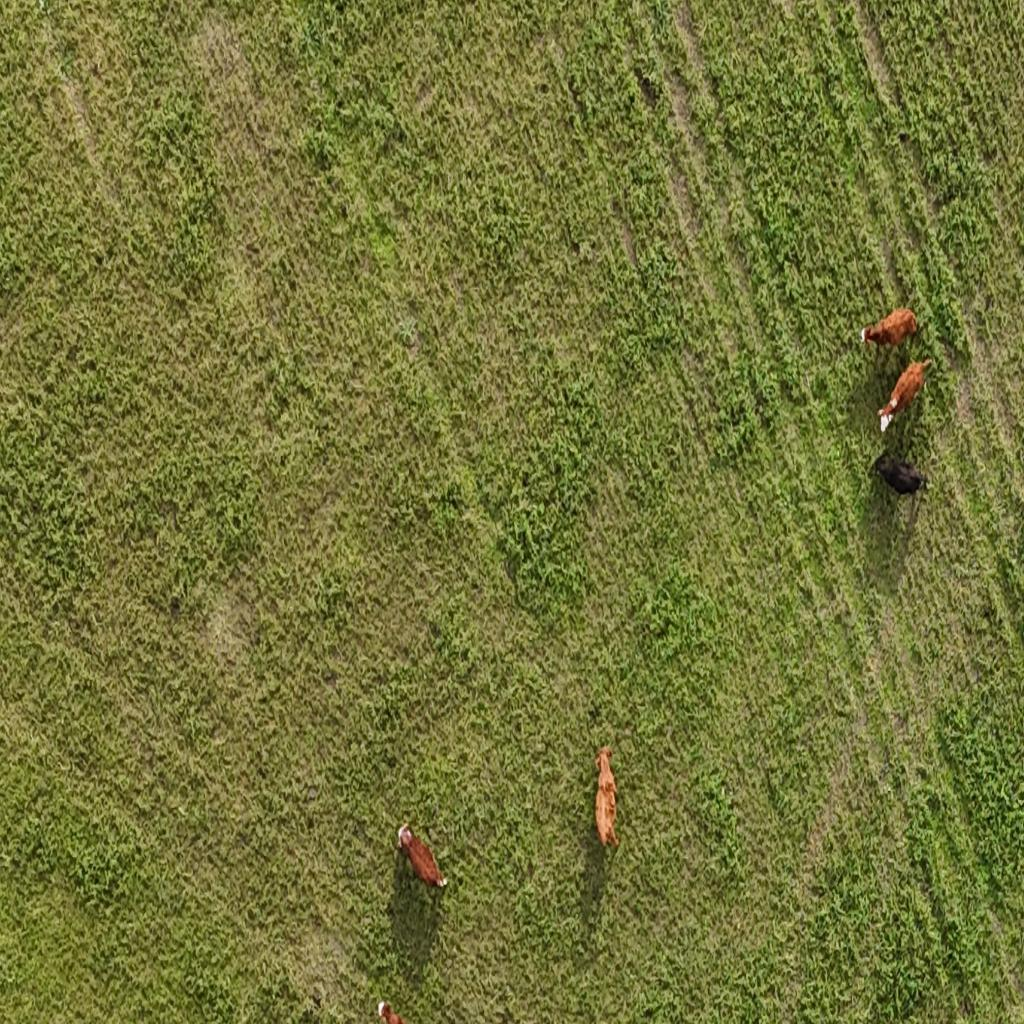cow: (869, 440, 932, 516), (877, 356, 932, 435), (396, 821, 448, 891), (592, 745, 622, 852), (860, 308, 920, 354), (377, 998, 408, 1024)
